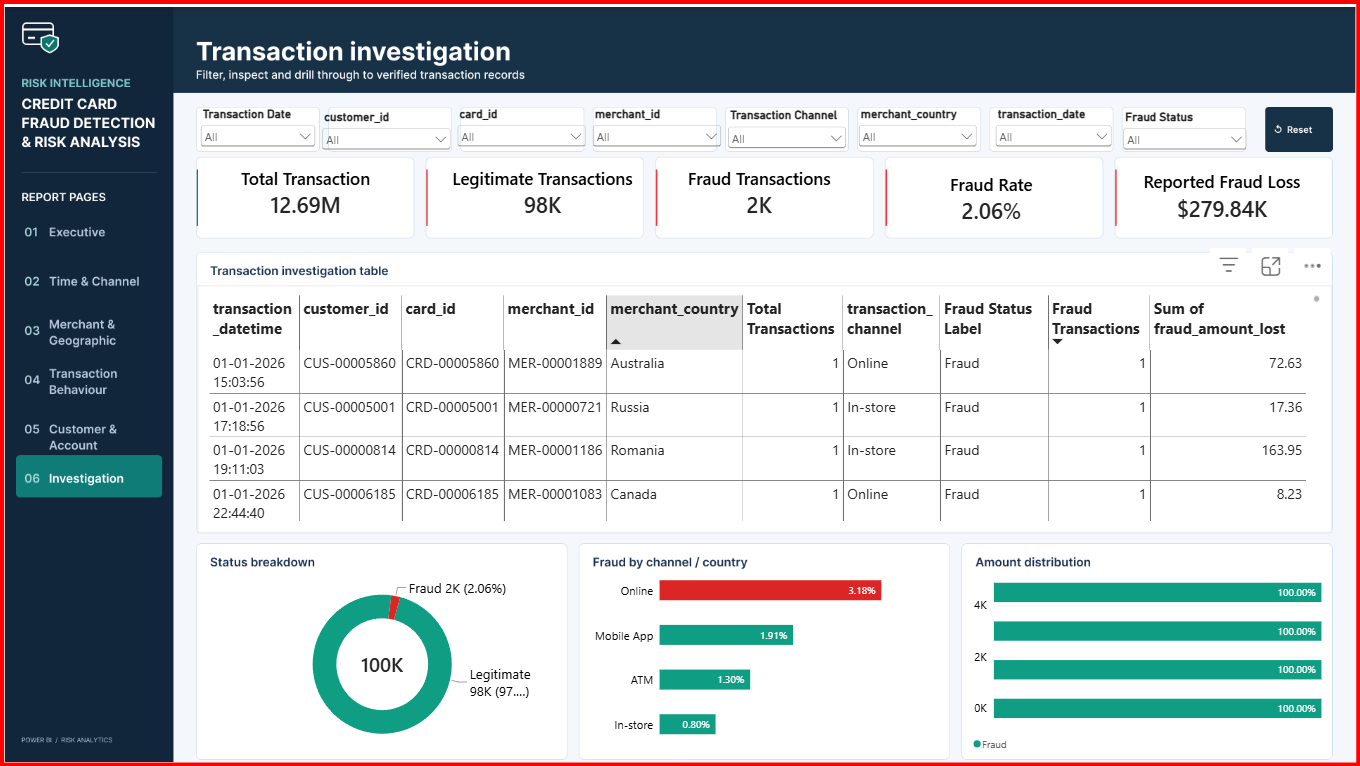

The dashboard page shown, as its layout file describes it:
{"tool":"powerbi","page":{"name":"Page 6","canvas":[1920,1080],"ordinal":5},"visuals":[{"type":"shape","box":[17.5,288.5,212,61.2],"z":0,"group":"g1"},{"type":"group","id":"g1","title":"Group 1","box":[17.5,288.5,212,415.2],"z":0},{"type":"shape","box":[1793.2,140.9,93.2,70.5],"z":1000},{"type":"shape","box":[17.5,349.7,212,61.2],"z":1000,"group":"g1"},{"type":"cardVisual","fields":{"Data":["credit_card_fraud.Total Transaction Value"]},"box":[273.3,212.1,308.7,106],"z":2000},{"type":"shape","box":[17.5,419.6,212,61.2],"z":2000,"group":"g1"},{"type":"cardVisual","fields":{"Data":["credit_card_fraud.Legitimate Transactions"]},"box":[610.3,212.1,308.7,106],"z":3000},{"type":"shape","box":[17.5,504.9,212,61.2],"z":3000,"group":"g1"},{"type":"cardVisual","fields":{"Data":["credit_card_fraud.Fraud Transactions"]},"box":[919,212.1,308.7,106],"z":4000},{"type":"shape","box":[17.5,566.1,212,61.2],"z":4000,"group":"g1"},{"type":"cardVisual","fields":{"Data":["credit_card_fraud.Fraud Rate"]},"box":[1248.9,221.5,308.7,106],"z":5000},{"type":"shape","box":[17.5,642.5,212,61.2],"z":5000,"group":"g1"},{"type":"cardVisual","fields":{"Data":["credit_card_fraud.Reported Fraud Amount Lost"]},"box":[1576.4,212.1,308.7,115.5],"z":6000},{"type":"tableEx","fields":{"Values":["credit_card_fraud.transaction_datetime","credit_card_fraud.customer_id","credit_card_fraud.card_id","credit_card_fraud.merchant_id","credit_card_fraud.merchant_country","credit_card_fraud.Total Transactions","credit_card_fraud.transaction_channel","credit_card_fraud.Fraud Status Label","credit_card_fraud.Fraud Transactions","Sum(credit_card_fraud.fraud_amount_lost)"]},"box":[273.3,395.9,1611.7,351.1],"z":7000},{"type":"donutChart","fields":{"Category":["credit_card_fraud.Fraud Status Label"],"Y":["credit_card_fraud.Total Transactions"]},"box":[273.3,791.7,525.5,287.5],"z":8000},{"type":"clusteredBarChart","fields":{"Category":["credit_card_fraud.transaction_channel"],"Y":["credit_card_fraud.Fraud Rate"]},"box":[815.3,768.2,527.8,311],"z":9000},{"type":"clusteredBarChart","fields":{"Category":["credit_card_fraud.transaction_amount (bins)"],"Series":["credit_card_fraud.Fraud Status Label"],"Y":["credit_card_fraud.Fraud Rate"]},"box":[1359.6,768.2,527.8,311],"z":10000},{"type":"slicer","fields":{"Values":["credit_card_fraud.transaction_date.Variation.Date Hierarchy.Month","credit_card_fraud.transaction_date.Variation.Date Hierarchy.Day"]},"box":[272.5,142.5,172.5,67.5],"z":13000},{"type":"slicer","fields":{"Values":["credit_card_fraud.customer_id"]},"box":[445,147.5,192.5,60],"z":14000},{"type":"slicer","fields":{"Values":["credit_card_fraud.transaction_channel"]},"box":[1022.5,145,177.5,65],"z":15000},{"type":"slicer","fields":{"Values":["credit_card_fraud.transaction_date.Variation.Date Hierarchy.Month","credit_card_fraud.transaction_date.Variation.Date Hierarchy.Day"]},"box":[1402.5,142.5,175,67.5],"z":16000},{"type":"slicer","fields":{"Values":["credit_card_fraud.merchant_id"]},"box":[830,142.5,192.5,70],"z":17000},{"type":"slicer","fields":{"Values":["credit_card_fraud.card_id"]},"box":[637.5,142.5,192.5,60],"z":17001},{"type":"slicer","fields":{"Values":["credit_card_fraud.merchant_country"]},"box":[1207.5,142.5,177.5,65],"z":17002},{"type":"slicer","fields":{"Values":["credit_card_fraud.Fraud Status Label"]},"box":[1585,147.5,185,65],"z":17003}]}

Visuals, with their boxes on the page's 1920x1080 design canvas (x1, y1, x2, y2). These are canvas units, not pixel positions in the 1360x766 screenshot, which may show the page scaled, cropped or inside an application window:
shape: 18:288:230:350
"Group 1" group: 18:288:230:704
shape: 1793:141:1886:211
shape: 18:350:230:411
cardVisual - credit_card_fraud.Total Transaction Value: 273:212:582:318
shape: 18:420:230:481
cardVisual - credit_card_fraud.Legitimate Transactions: 610:212:919:318
shape: 18:505:230:566
cardVisual - credit_card_fraud.Fraud Transactions: 919:212:1228:318
shape: 18:566:230:627
cardVisual - credit_card_fraud.Fraud Rate: 1249:222:1558:328
shape: 18:642:230:704
cardVisual - credit_card_fraud.Reported Fraud Amount Lost: 1576:212:1885:328
tableEx - credit_card_fraud.transaction_datetime x credit_card_fraud.customer_id: 273:396:1885:747
donutChart - credit_card_fraud.Fraud Status Label x credit_card_fraud.Total Transactions: 273:792:799:1079
clusteredBarChart - credit_card_fraud.transaction_channel x credit_card_fraud.Fraud Rate: 815:768:1343:1079
clusteredBarChart - credit_card_fraud.transaction_amount (bins) x credit_card_fraud.Fraud Status Label: 1360:768:1887:1079
slicer - credit_card_fraud.transaction_date.Variation.Date Hierarchy.Month x credit_card_fraud.transaction_date.Variation.Date Hierarchy.Day: 272:142:445:210
slicer - credit_card_fraud.customer_id: 445:148:638:208
slicer - credit_card_fraud.transaction_channel: 1022:145:1200:210
slicer - credit_card_fraud.transaction_date.Variation.Date Hierarchy.Month x credit_card_fraud.transaction_date.Variation.Date Hierarchy.Day: 1402:142:1578:210
slicer - credit_card_fraud.merchant_id: 830:142:1022:212
slicer - credit_card_fraud.card_id: 638:142:830:202
slicer - credit_card_fraud.merchant_country: 1208:142:1385:208
slicer - credit_card_fraud.Fraud Status Label: 1585:148:1770:212
